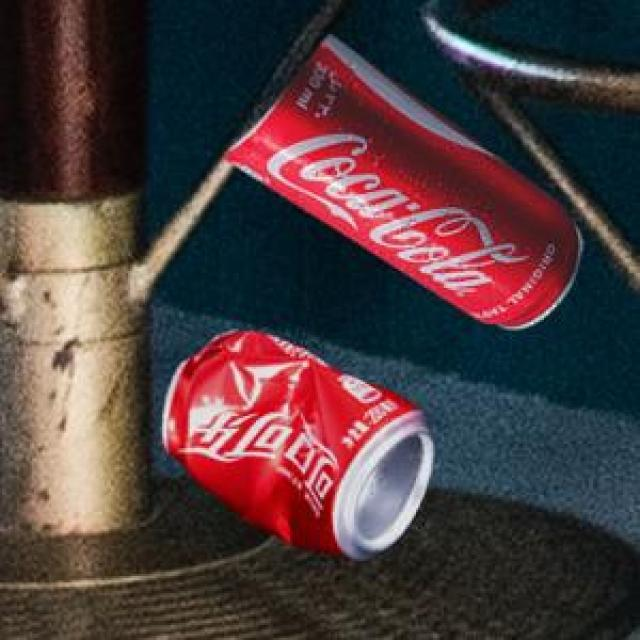Can: (223, 31, 579, 325), (159, 327, 432, 558)
